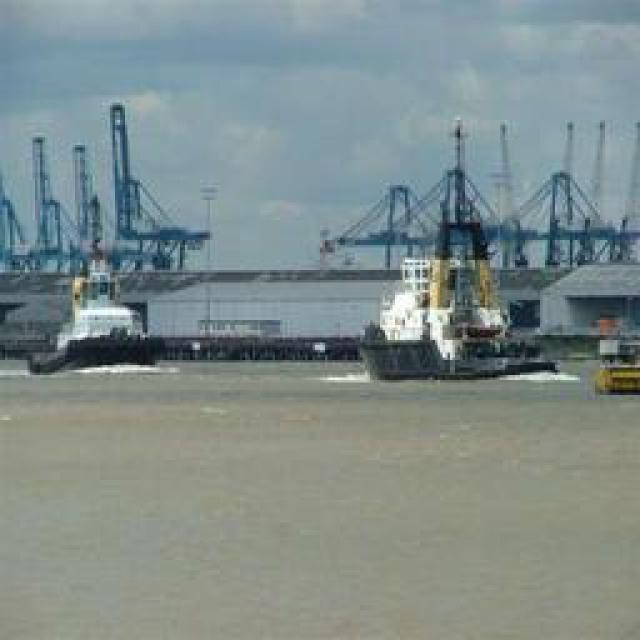Ship: (359, 114, 539, 387), (25, 222, 172, 387)
